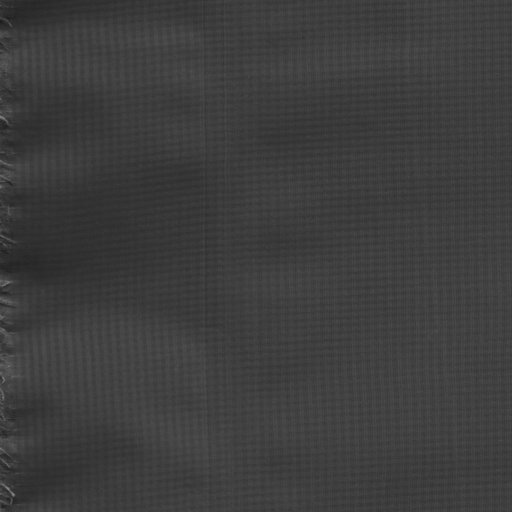defect: (197, 2, 215, 512), (221, 1, 233, 512)
